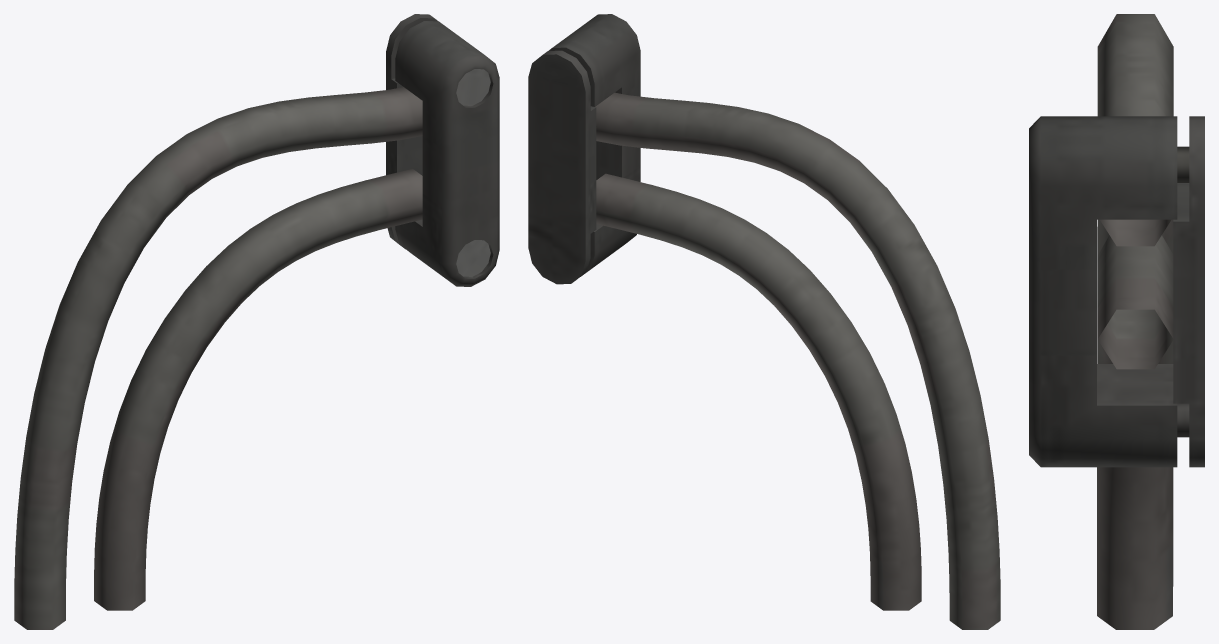
File: cable_double_turn_short.gltf
3 views of the same model, side by side, from view 1: azimuth 30°, elevation 25°; view 2: azimuth 150°, elevation 25°; view 3: azimuth 270°, elevation 25° (orthographic). The views are drawn at different scales.
Visible parts, largest first — view 1: cable_double_turn_short; view 2: cable_double_turn_short; view 3: cable_double_turn_short.
Part boxes in pixels (<box>): cable_double_turn_short: <box>14,14,499,629</box>; cable_double_turn_short: <box>528,14,1000,629</box>; cable_double_turn_short: <box>1029,14,1204,629</box>.
Bounding box in the file's own units: 0.112 × 0.1178 × 0.0259.
Materials: 1 (1 with a texture image).
